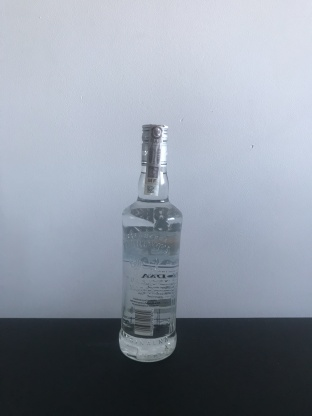nakretka: (138, 120, 171, 169)
